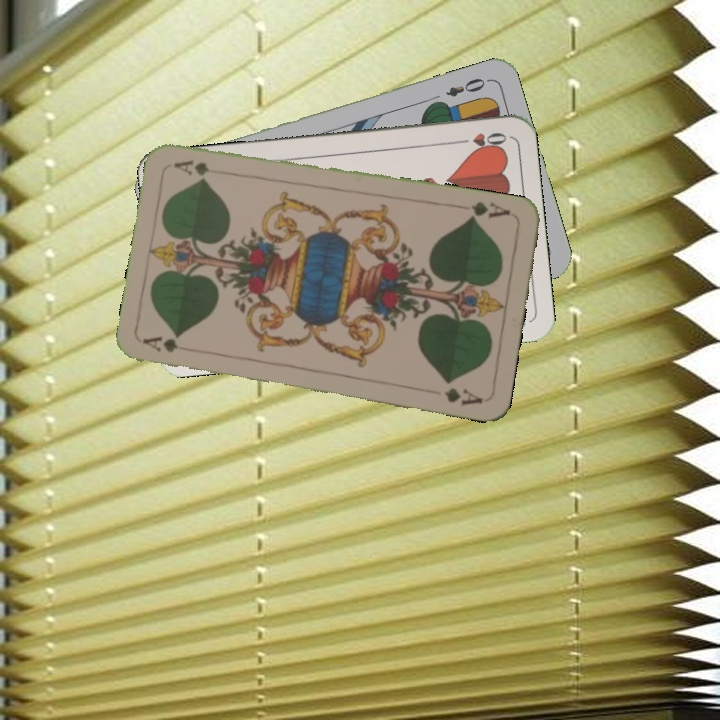EO: (442, 74, 493, 100)
GA: (140, 332, 199, 356), (464, 197, 513, 223)
HO: (451, 128, 509, 152)
